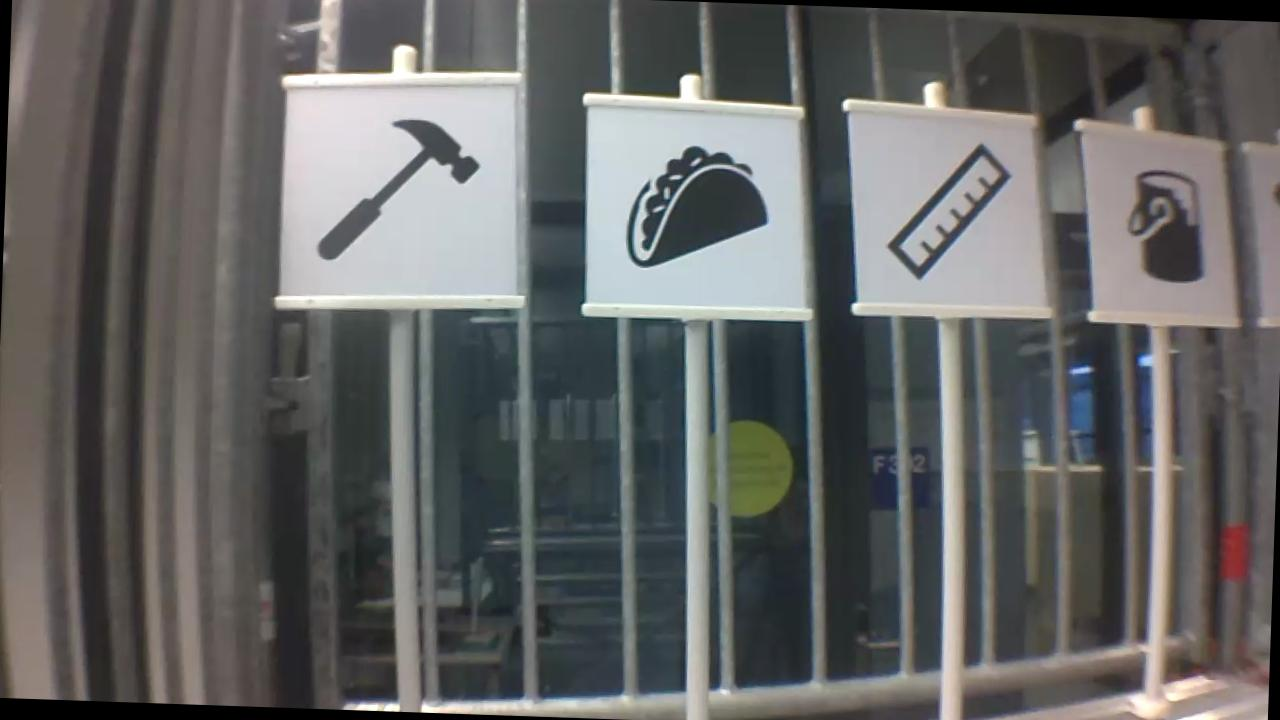bucket: (1119, 159, 1213, 287)
hammer: (311, 105, 484, 271)
ruler: (878, 134, 1021, 286)
taco: (618, 137, 776, 278)
